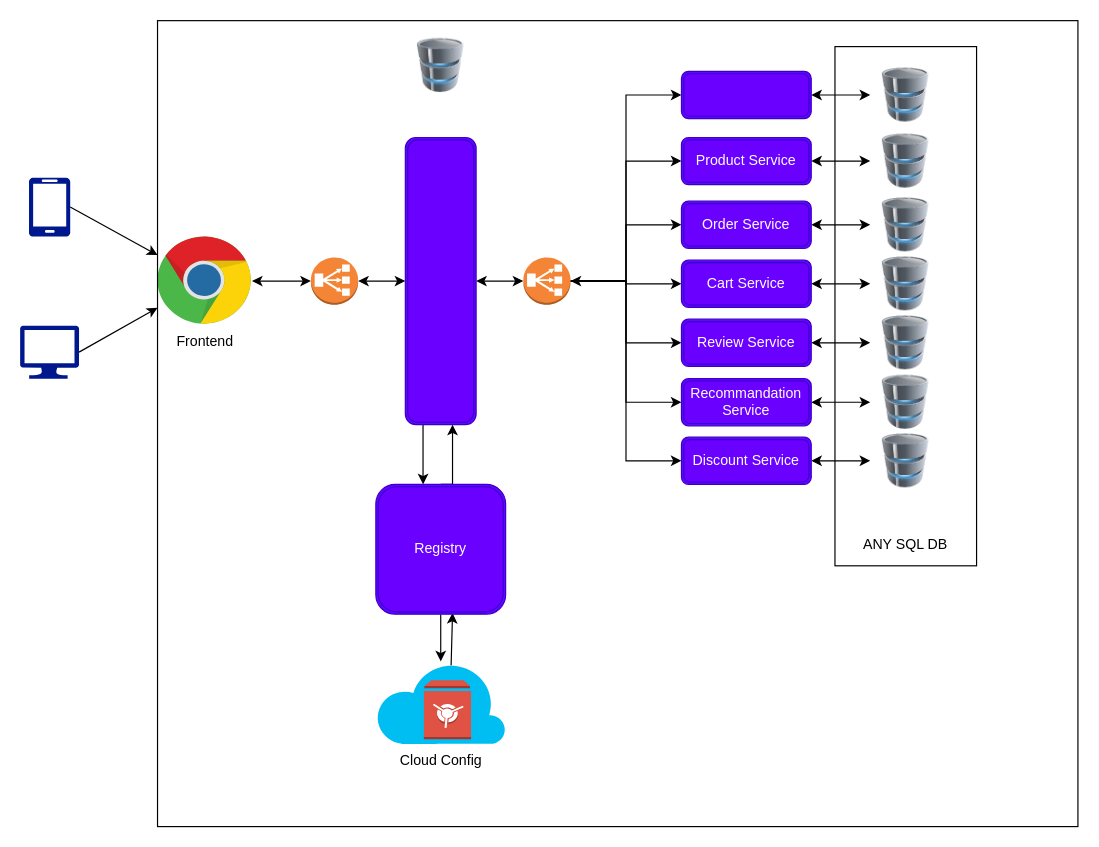
This 1099x847 diagram has some shape labels left out. Each missing label, with the centre of its shape:
"Customer Service" belongs at [745,94].
"Desktop" belongs at [48,351].
"Gateway" belongs at [440,280].
"Mobile" belongs at [49,206].
"SQL DB" belongs at [440,65].
